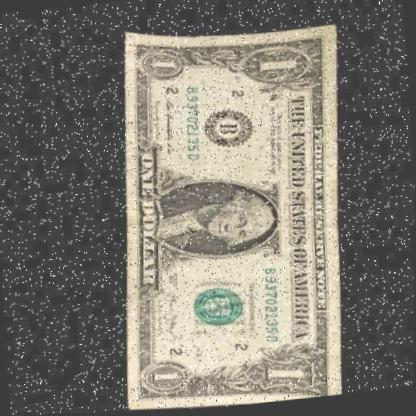dollar_front: (101, 1, 361, 413)
